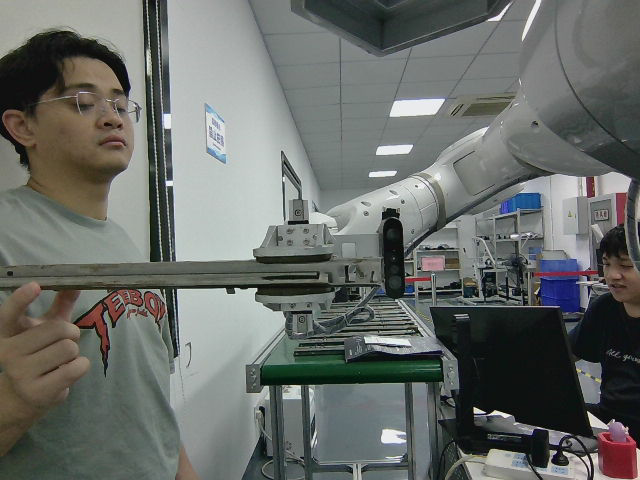down: (2, 257, 385, 295)
